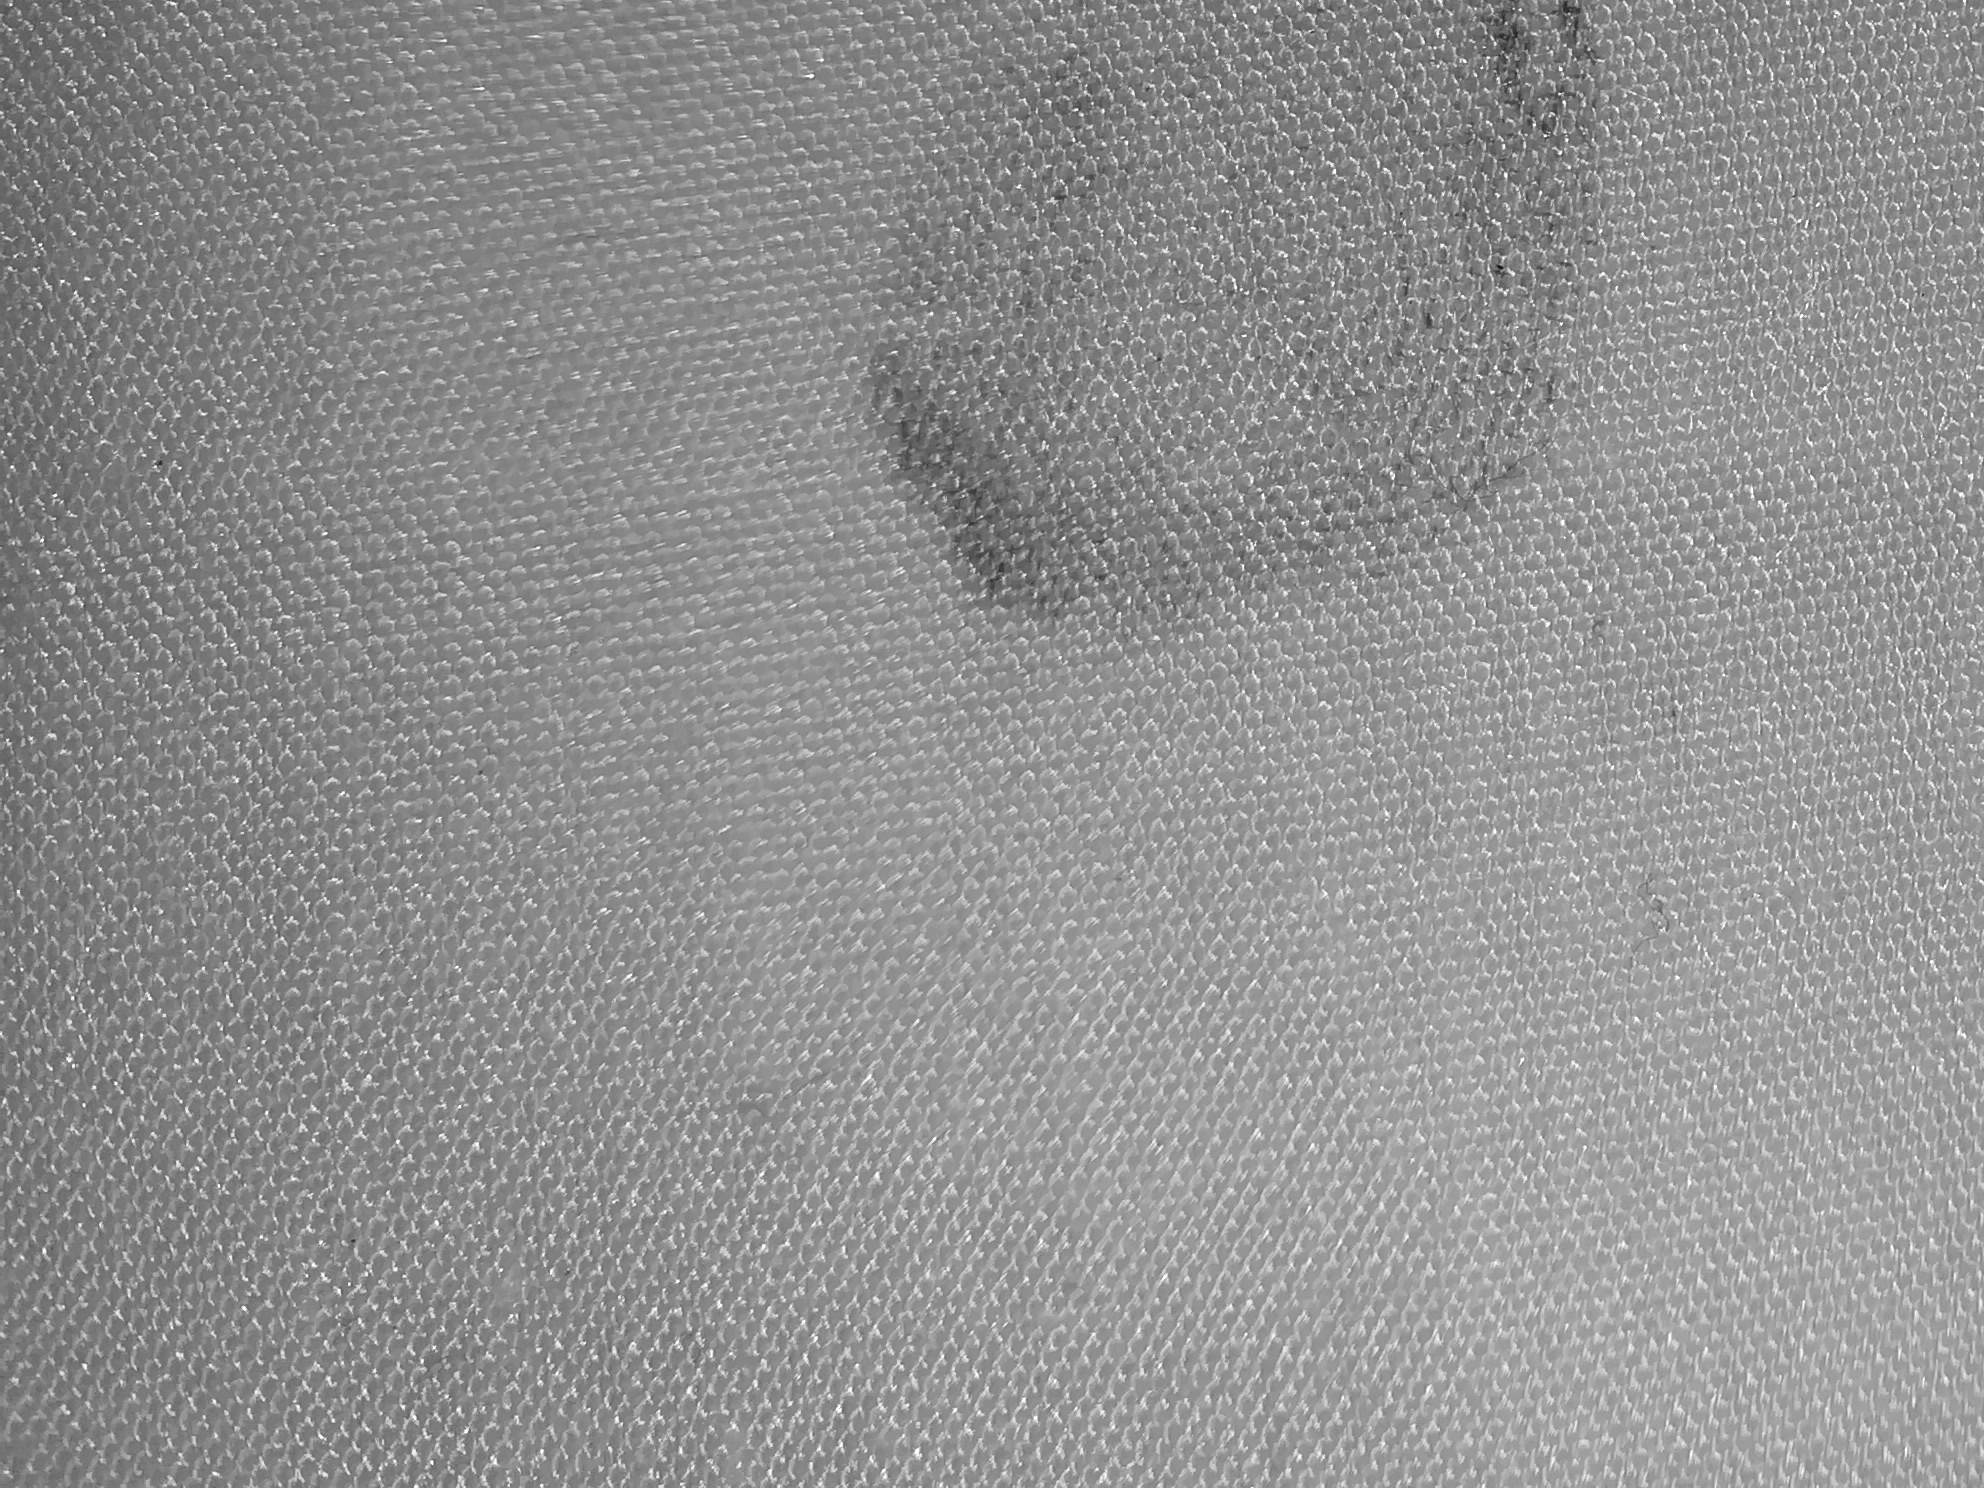Stain: (833, 2, 1670, 763)
